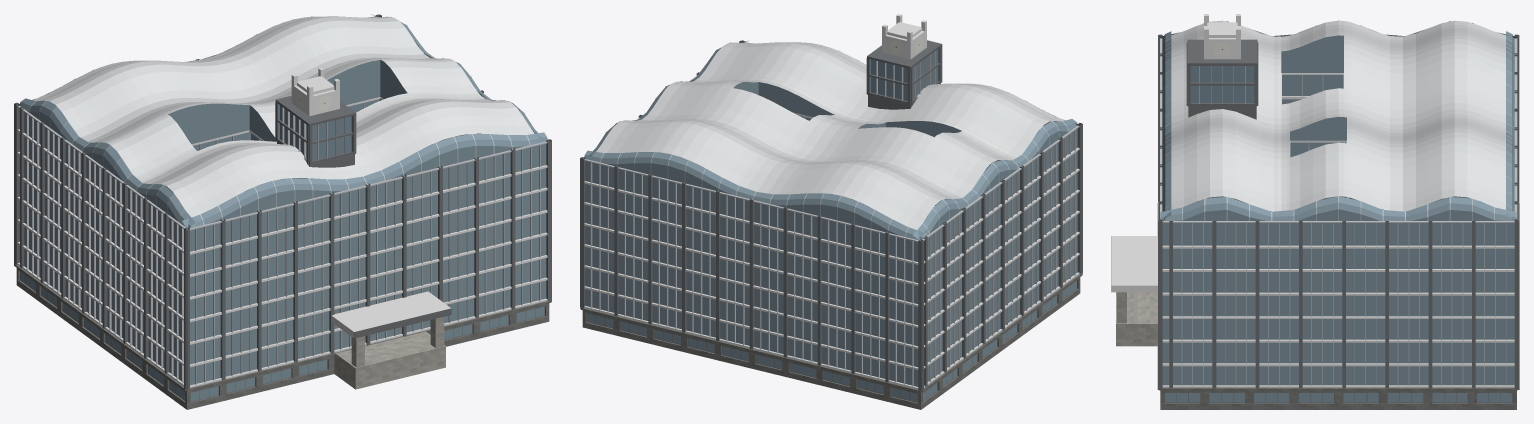
3 renders of one model, left to right at view 1: azimuth 30°, elevation 25°; view 2: azimuth 150°, elevation 25°; view 3: azimuth 270°, elevation 25°, orthographic. The views are drawn at different scales.
Parts seen in each view (by area): view 1: library__glass, library__roof, library__mullion, library__pilaster, library__slab, library__base, library__pier, library__frame, library__glassTower; view 2: library__glass, library__roof, library__mullion, library__pilaster, library__slab, library__base, library__frame, library__glassTower; view 3: library__glass, library__roof, library__slab, library__pilaster, library__mullion, library__base, library__pier, library__frame, library__glassTower.
Part boxes in pixels (left/top/right/bottom): library__glass: left=18, top=14, right=547, bottom=401; library__roof: left=33, top=16, right=534, bottom=217; library__mullion: left=17, top=14, right=548, bottom=384; library__pilaster: left=14, top=14, right=551, bottom=389; library__slab: left=17, top=54, right=547, bottom=387; library__base: left=14, top=264, right=551, bottom=409; library__pier: left=334, top=317, right=445, bottom=389; library__frame: left=20, top=95, right=544, bottom=401; library__glassTower: left=278, top=104, right=352, bottom=160; library__glass: left=584, top=40, right=1078, bottom=402; library__roof: left=596, top=42, right=1064, bottom=229; library__mullion: left=583, top=51, right=1079, bottom=386; library__pilaster: left=580, top=40, right=1082, bottom=390; library__slab: left=584, top=14, right=1079, bottom=389; library__base: left=580, top=274, right=1082, bottom=409; library__frame: left=586, top=40, right=1076, bottom=402; library__glassTower: left=870, top=48, right=939, bottom=100; library__glass: left=1160, top=21, right=1516, bottom=402; library__roof: left=1171, top=20, right=1505, bottom=211; library__slab: left=1111, top=14, right=1514, bottom=387; library__pilaster: left=1158, top=34, right=1519, bottom=388; library__mullion: left=1160, top=20, right=1517, bottom=385; library__base: left=1157, top=202, right=1519, bottom=409; library__pier: left=1116, top=292, right=1157, bottom=346; library__frame: left=1111, top=39, right=1512, bottom=402; library__glassTower: left=1190, top=66, right=1254, bottom=102.
Bounding box in the file's own units: 64.75 × 45.9 × 59.72.
Materials: 11 (2 with a texture image).
